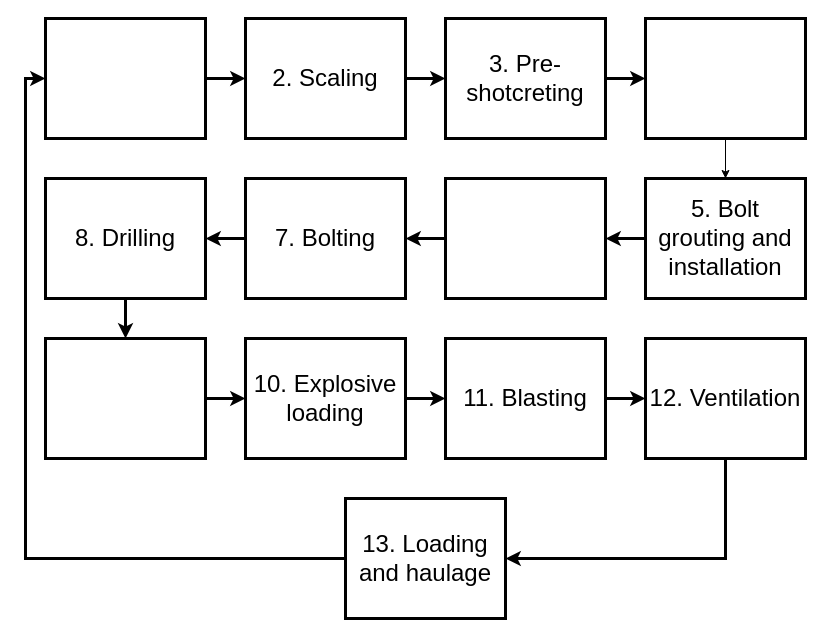
The diagram is 824 pixels wide and 637 high, and some of its shapes have lost their labels. Each missing label, with the centre of its shape:
1. Mucking: the point at 125,78
4. Bolt drilling: the point at 725,78
6. Mesh installation: the point at 525,238
9. Shotcreting: the point at 125,398
